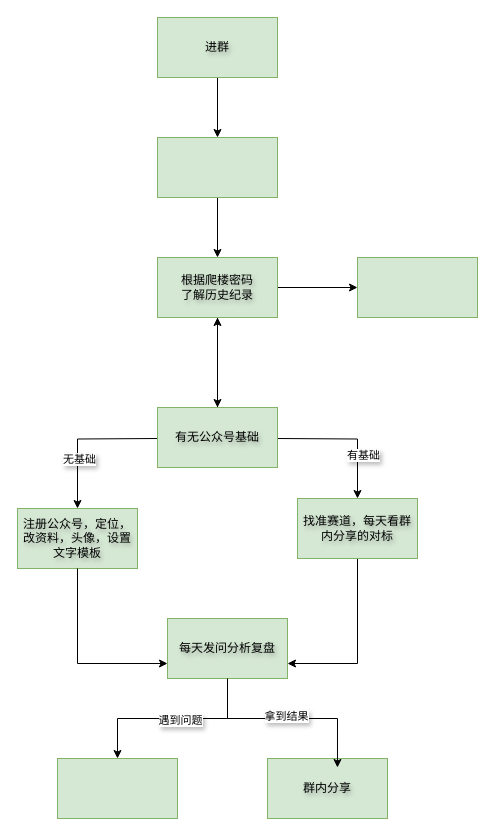
Image size: 495x836. Some labels were removed from this diagram. The box of each missing label's shape, as (x1, y1, x2, y2) in pixels:
学习小报童内知识: (356, 256, 478, 318)
看群公告: (156, 136, 278, 198)
骚扰辰风: (56, 758, 178, 818)
